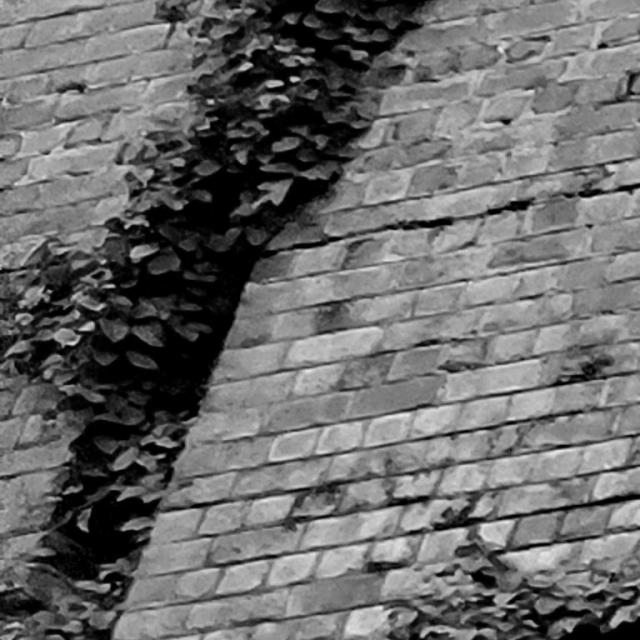crack: (255, 184, 638, 258)
